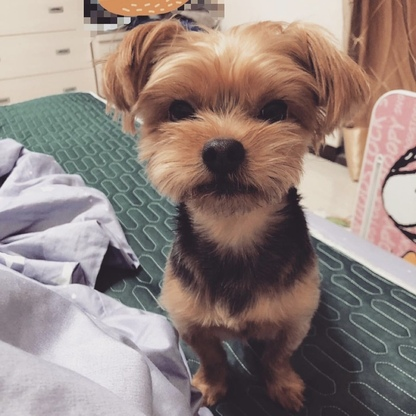yorkshire: (102, 17, 372, 407)
